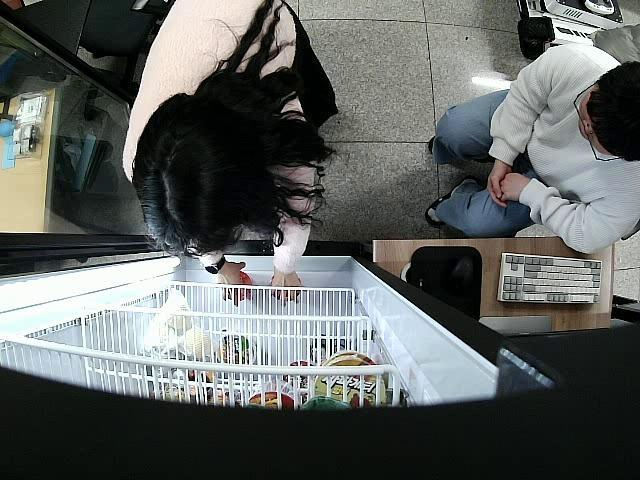02_shinRamen_S: (228, 273, 252, 304)
